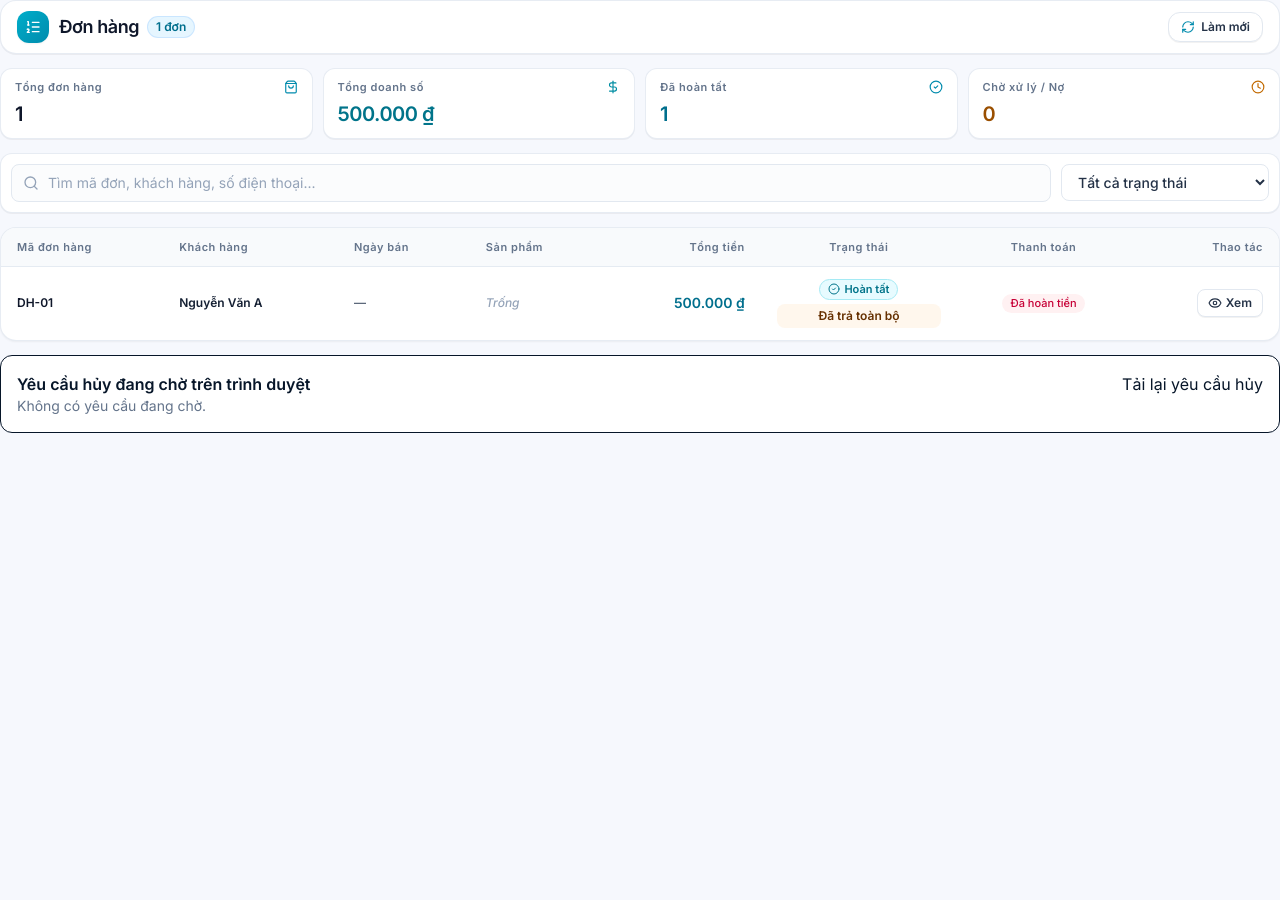
RetailOrdersPage › shows persisted after-sale status and the receipt, and prevents processing a fully returned order again
Click the button with aria-label "Xem chi tiết": (1230, 304) [1197, 290, 1263, 318]
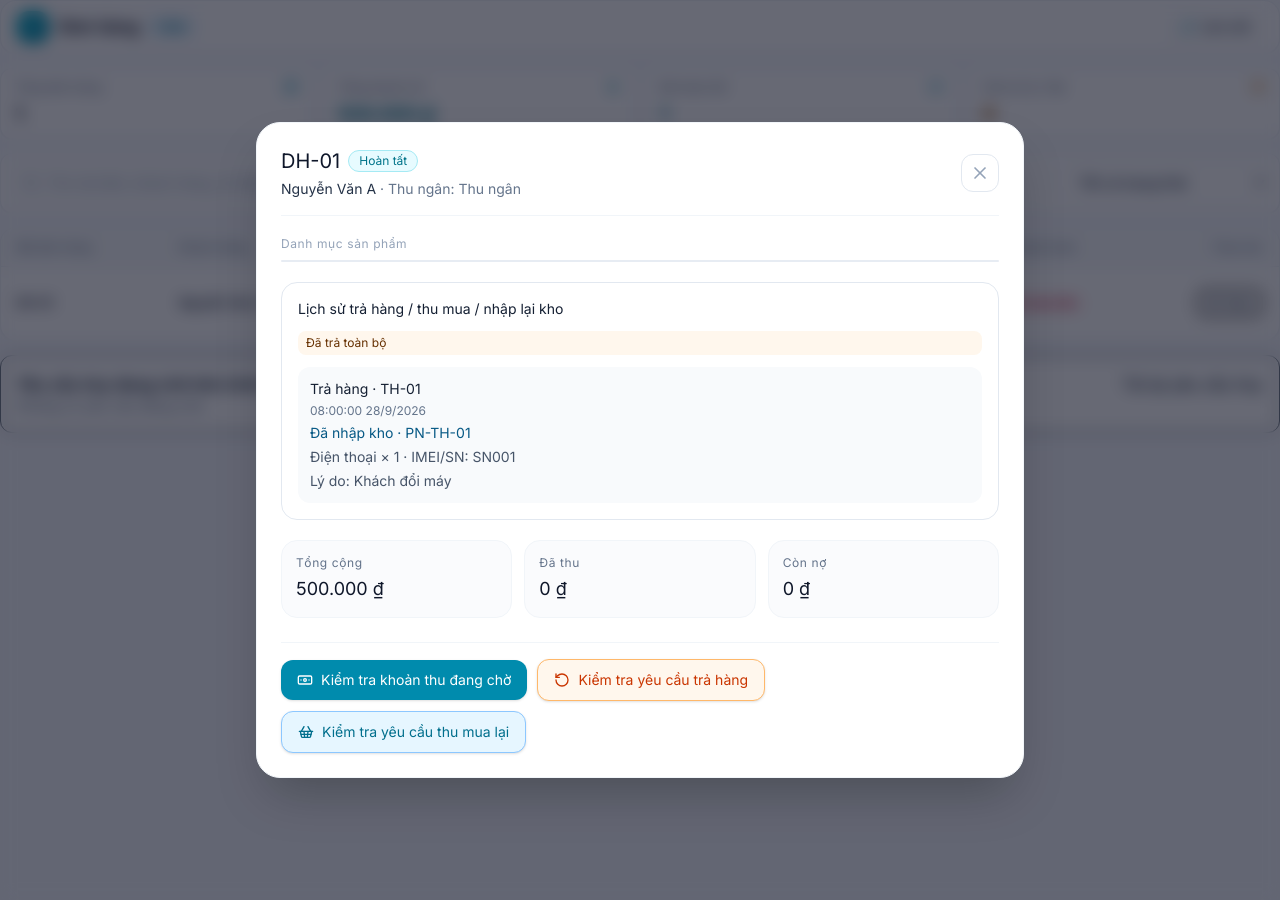
Check: the heading "DH-01" is shown, box [281, 147, 340, 175]
Check: the text "Đã nhập kho · PN-TH-01" is shown, box [310, 424, 471, 441]
Check: the text "Điện thoại × 1 · IMEI/SN: SN001" is shown, box [310, 448, 515, 465]
